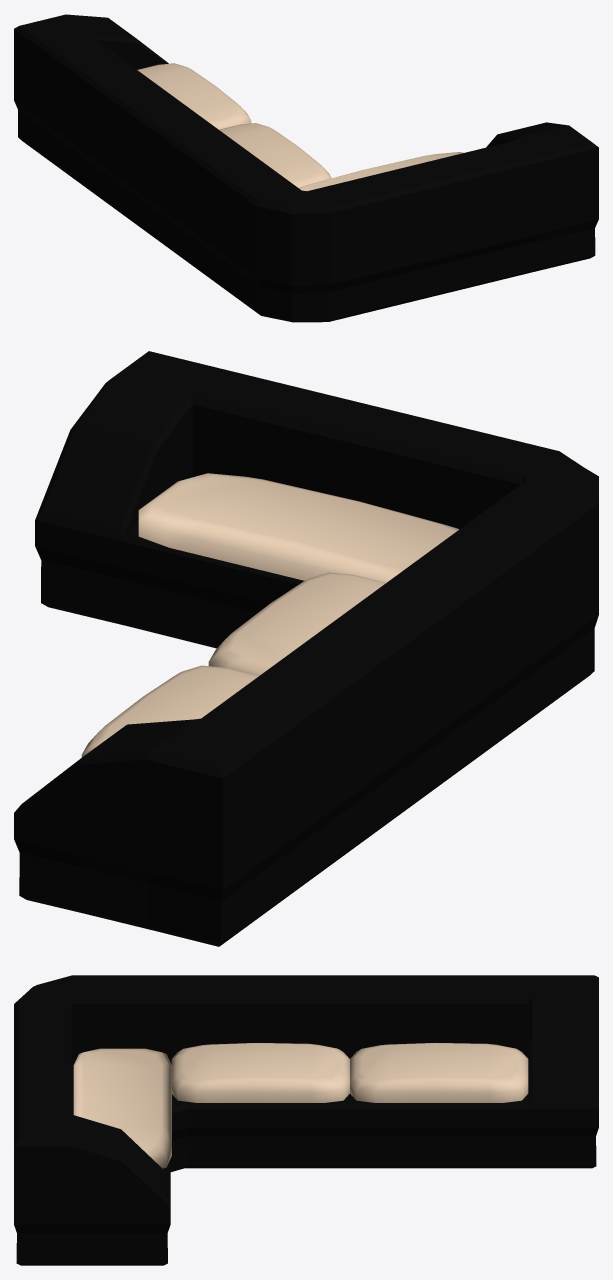
Rendered from Zen_LivingroomSofa.FBX.
The picture shows the model from 3 angles, top to bottom: view 1: azimuth 30°, elevation 25°; view 2: azimuth 150°, elevation 25°; view 3: azimuth 270°, elevation 25°; orthographic projection. The views are drawn at different scales.
Visible parts, largest first — view 1: Zen_LivingSofa; view 2: Zen_LivingSofa; view 3: Zen_LivingSofa.
Boxes of the visible parts, bbox=[...] form: Zen_LivingSofa: bbox=[14, 14, 598, 322]; Zen_LivingSofa: bbox=[14, 351, 598, 946]; Zen_LivingSofa: bbox=[14, 975, 598, 1265].
Bounding box in the file's own units: 104 × 35.98 × 152.
